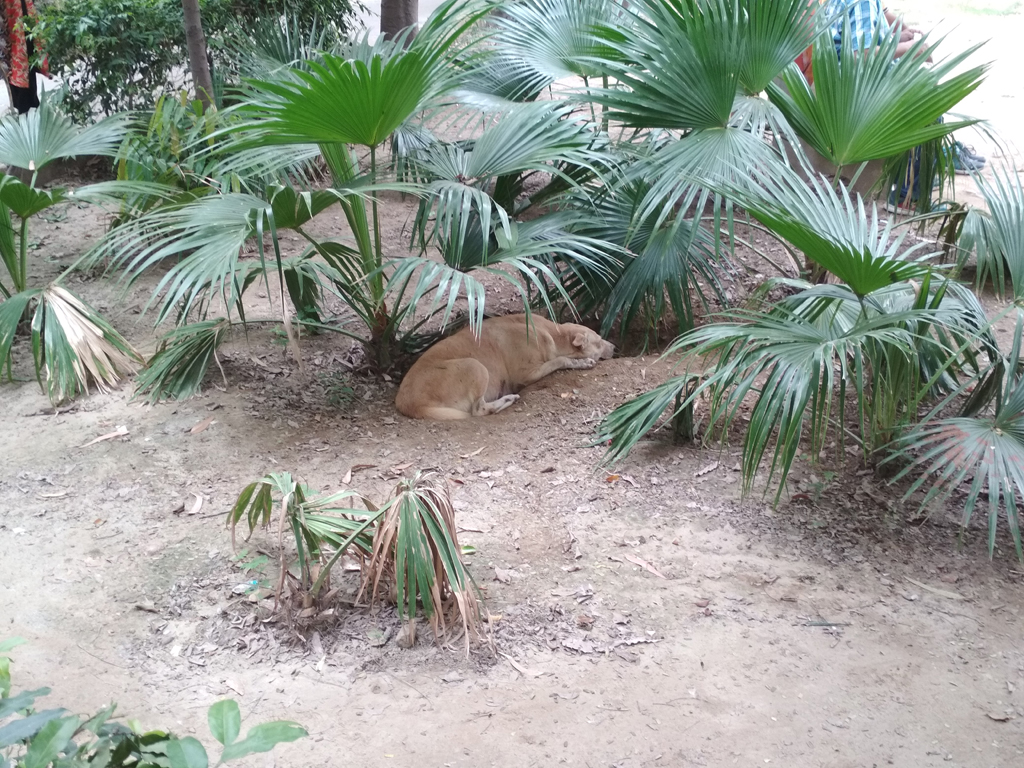dog: (394, 311, 616, 421)
